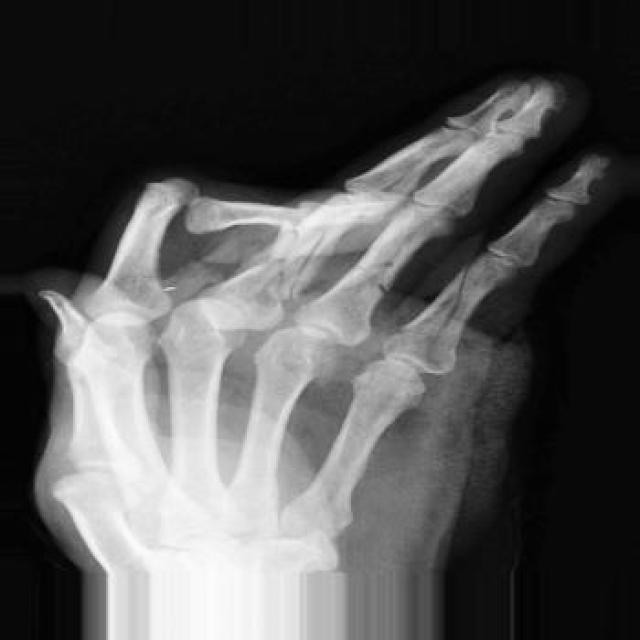Fracture: (430, 264, 475, 349), (349, 249, 406, 297), (295, 234, 329, 284)
